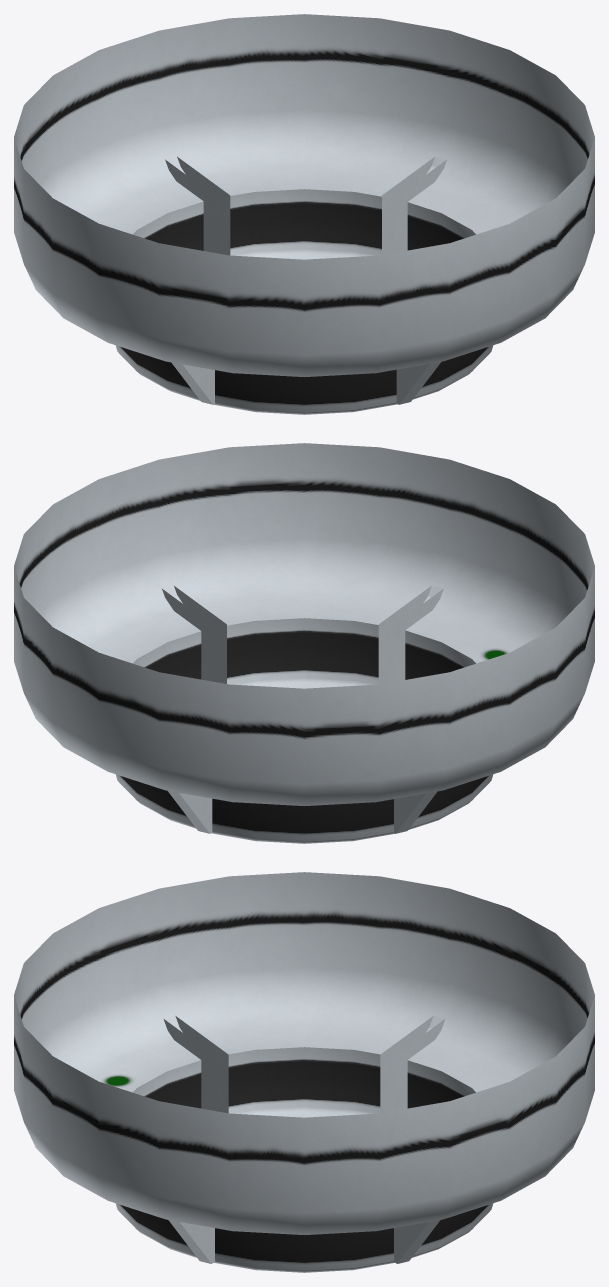
The model's file is FireSmoke01_1.FBX.
The picture shows the model from 3 angles, top to bottom: view 1: azimuth 30°, elevation 25°; view 2: azimuth 150°, elevation 25°; view 3: azimuth 270°, elevation 25°; orthographic projection.
Visible parts, largest first — view 1: FireSmoke01_1; view 2: FireSmoke01_1; view 3: FireSmoke01_1.
Part boxes in pixels (box(x1,y1,x2,y2)): FireSmoke01_1: box(14, 14, 594, 414); FireSmoke01_1: box(14, 443, 594, 843); FireSmoke01_1: box(14, 872, 594, 1272).
Size of the model in its own units: 14 by 5.36 by 14.
